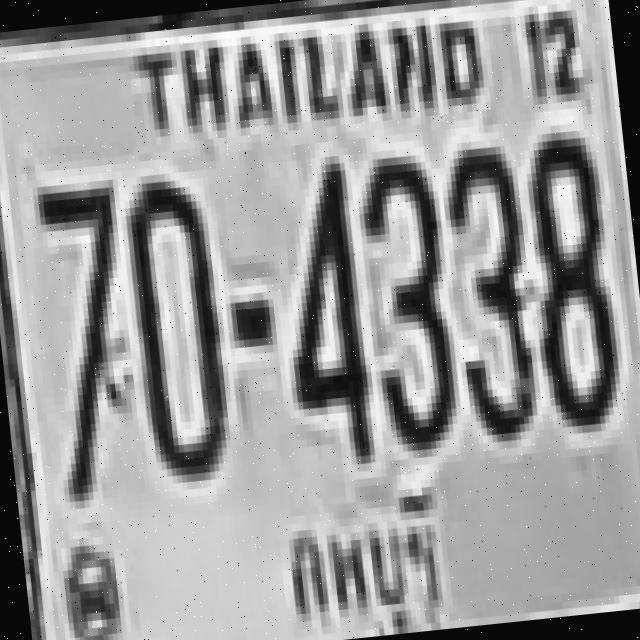0: (116, 170, 228, 478)
3: (350, 146, 458, 453), (438, 138, 538, 437)
4: (268, 152, 370, 458)
7: (31, 176, 140, 498)
8: (518, 126, 618, 424)
LopBuri: (270, 475, 450, 640)
